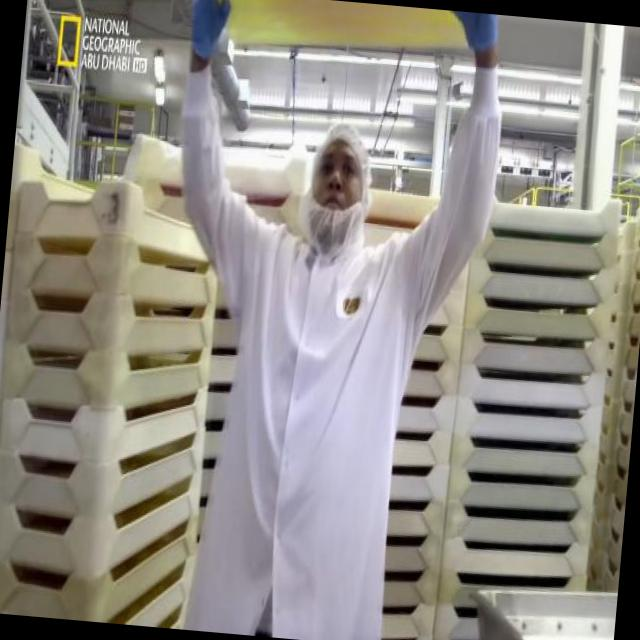hairnet: (306, 108, 377, 178)
